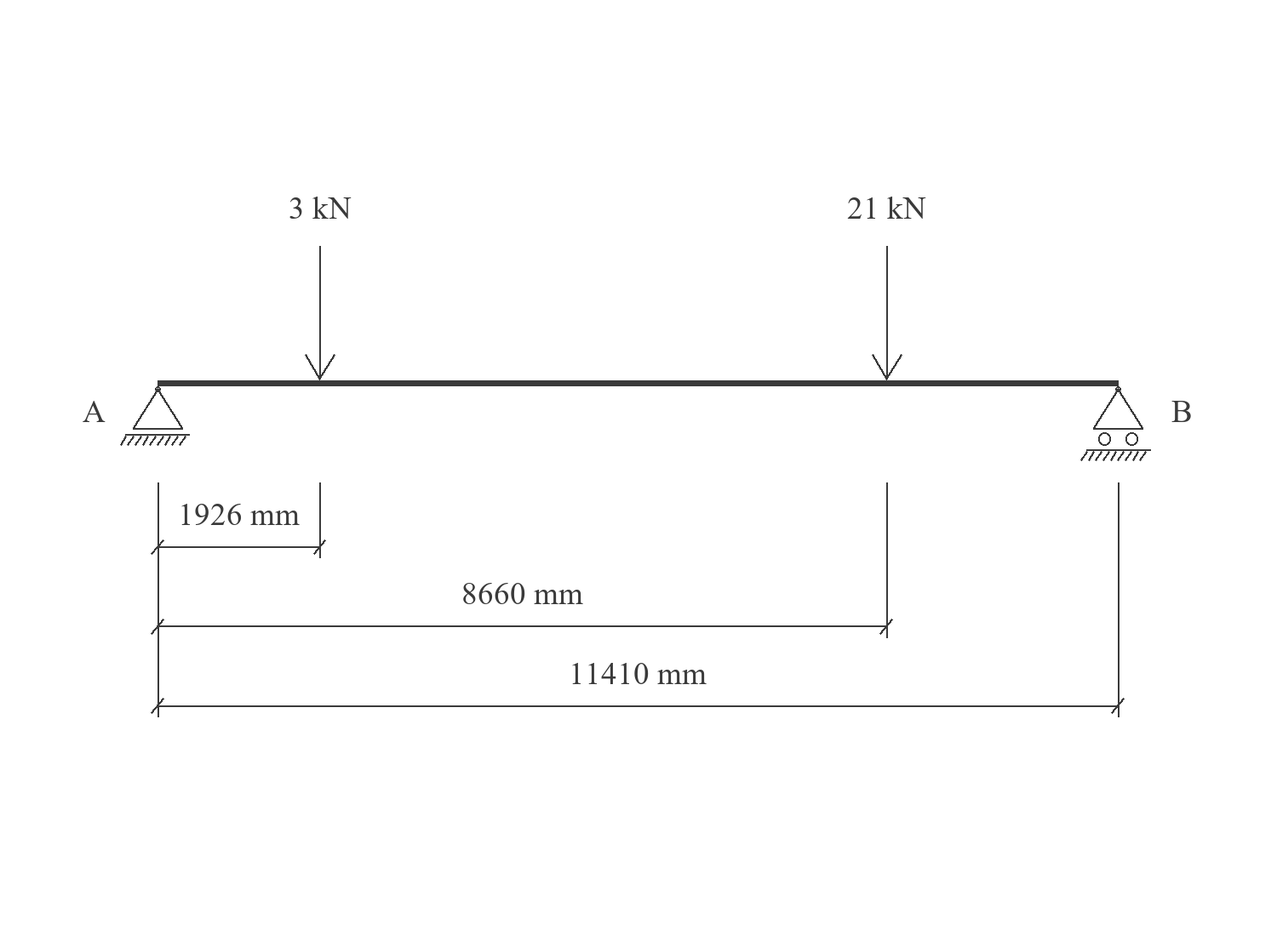pin_support: (120, 386, 190, 446)
point_load: (305, 246, 335, 380), (872, 246, 902, 380)
roller_support: (1080, 386, 1151, 461)
